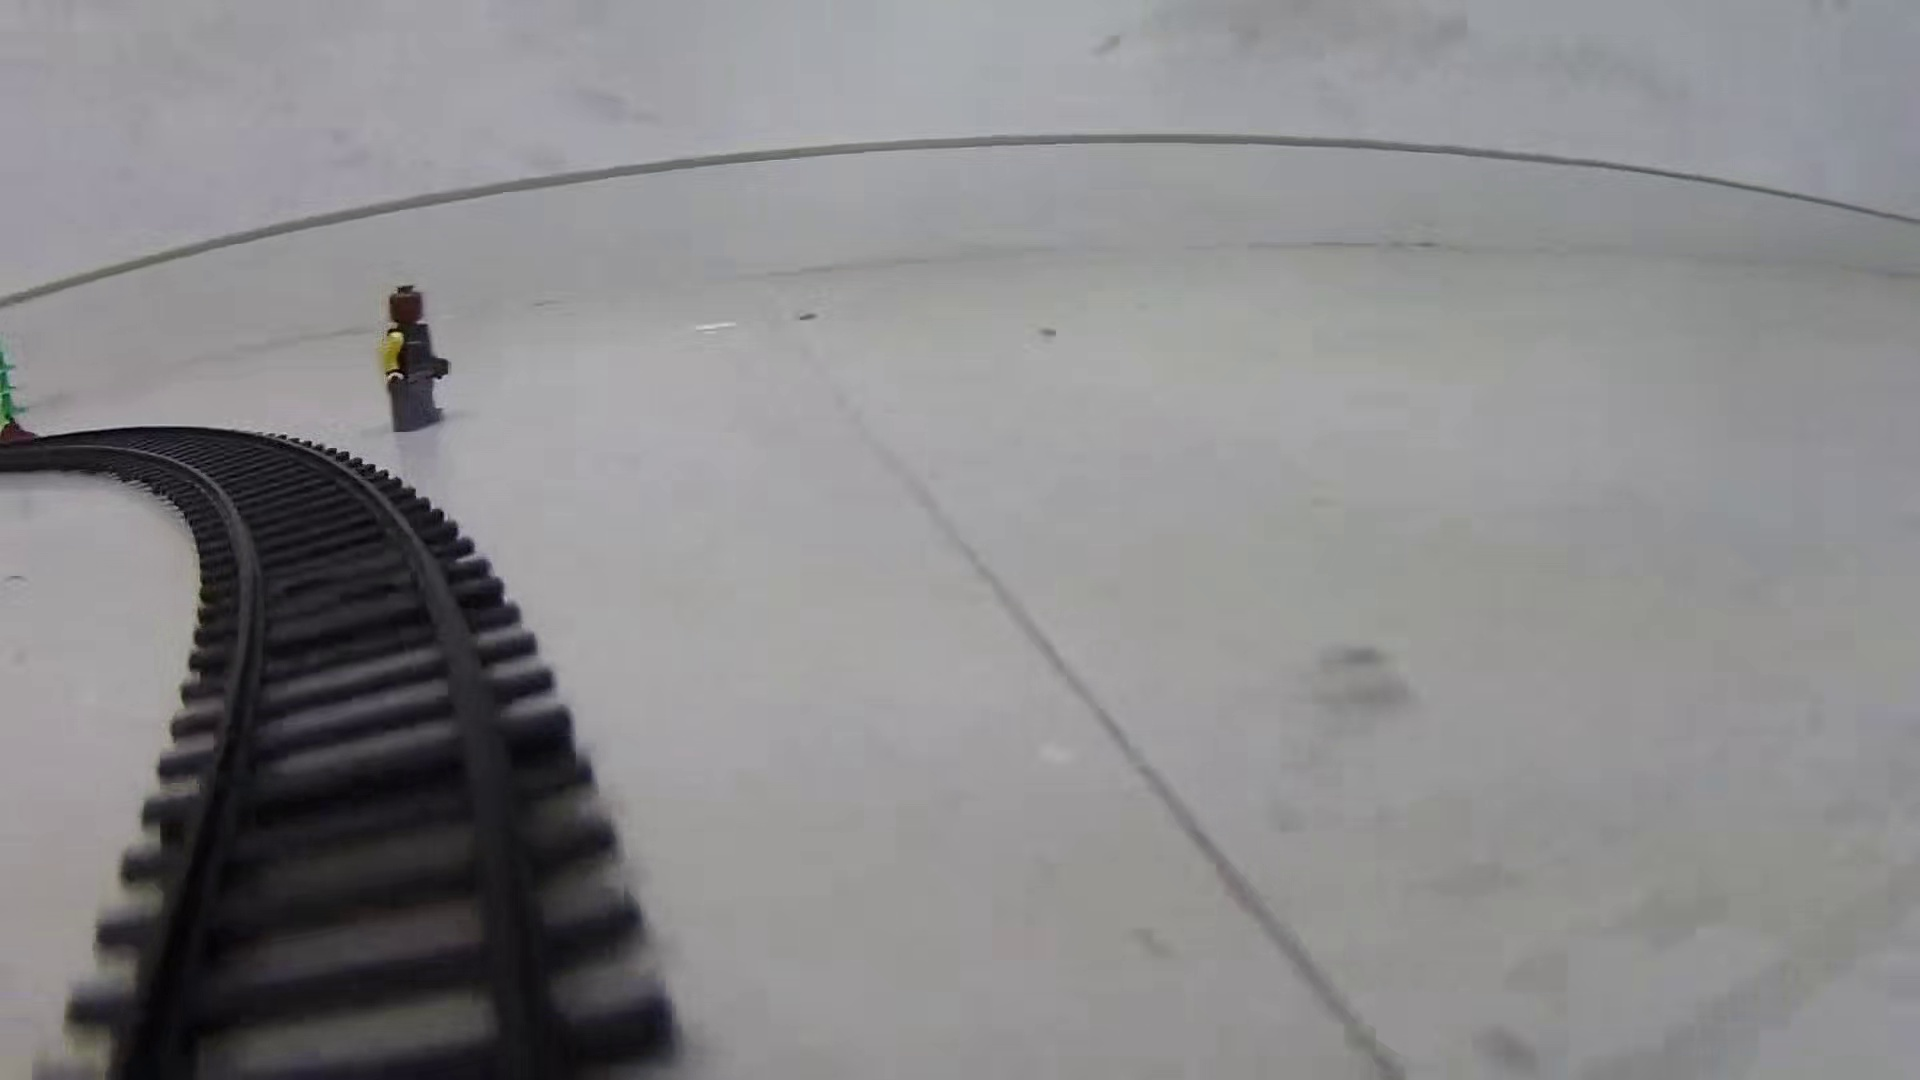people: (385, 284, 451, 432)
